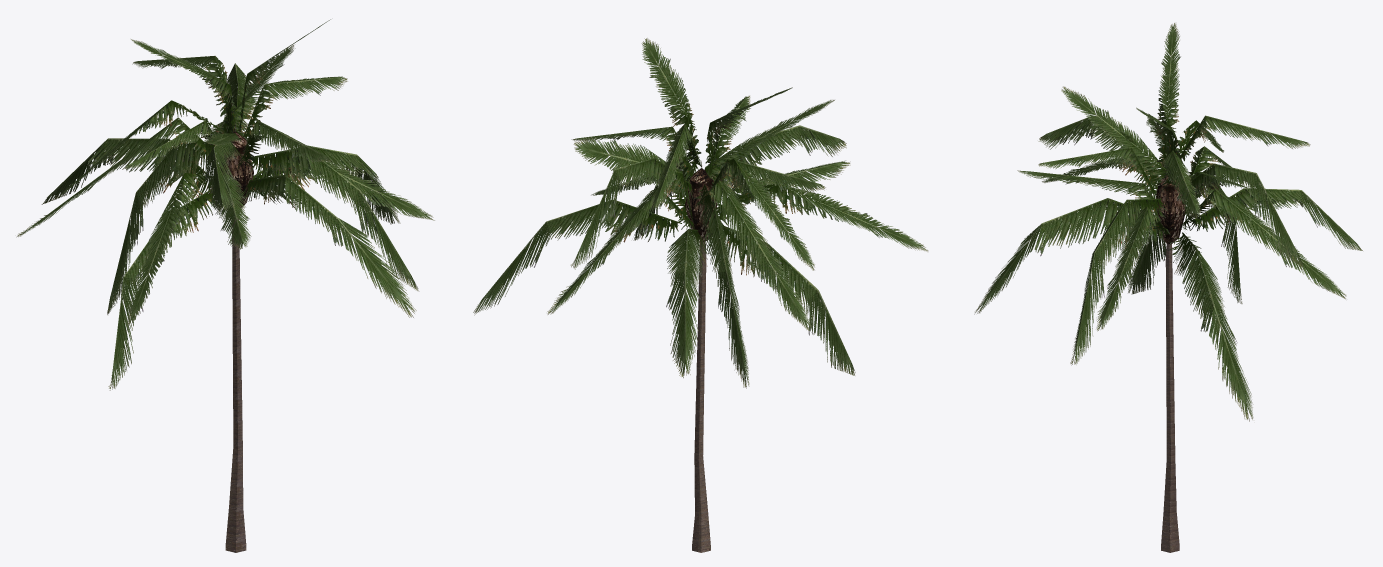
Rendered from veg_palm04.obj.
The picture shows the model from 3 angles, left to right: view 1: azimuth 30°, elevation 25°; view 2: azimuth 150°, elevation 25°; view 3: azimuth 270°, elevation 25°; orthographic projection. The views are drawn at different scales.
Visible parts, largest first — view 1: veg_palm04; view 2: veg_palm04; view 3: veg_palm04.
Part boxes in pixels (left/top/right/bottom): veg_palm04: left=16, top=19, right=434, bottom=552; veg_palm04: left=473, top=38, right=928, bottom=552; veg_palm04: left=974, top=23, right=1362, bottom=552.
Bounding box in the file's own units: 29.88 × 37.52 × 27.38.
3 materials, 3 textured.
